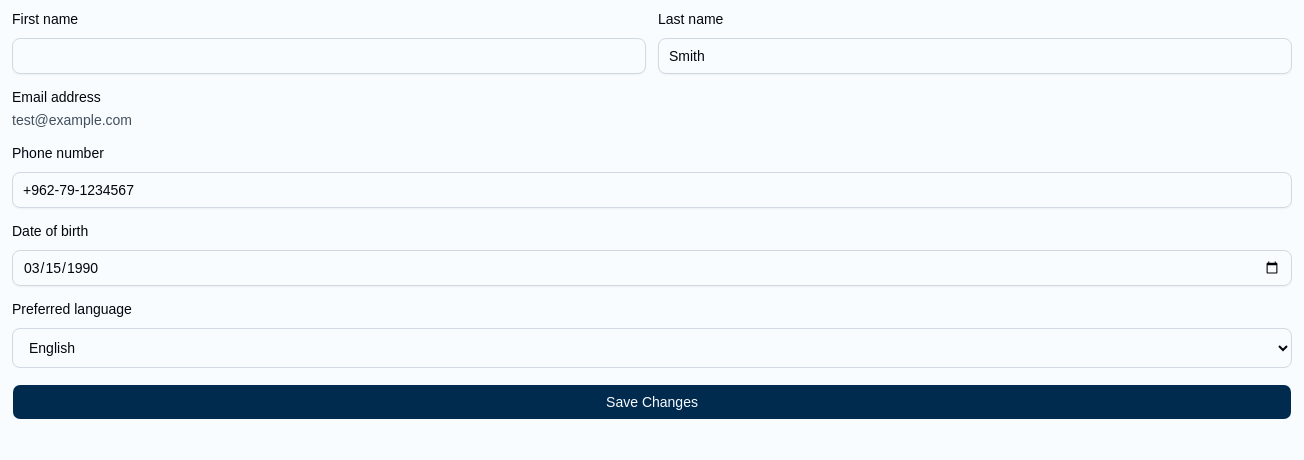
Test: ProfileForm field rendering and validation › shows first name required error on empty submit (PF-003)
Step 1. Click the button "Save Changes" → {"x": 652, "y": 402}, box [12, 384, 1292, 420]
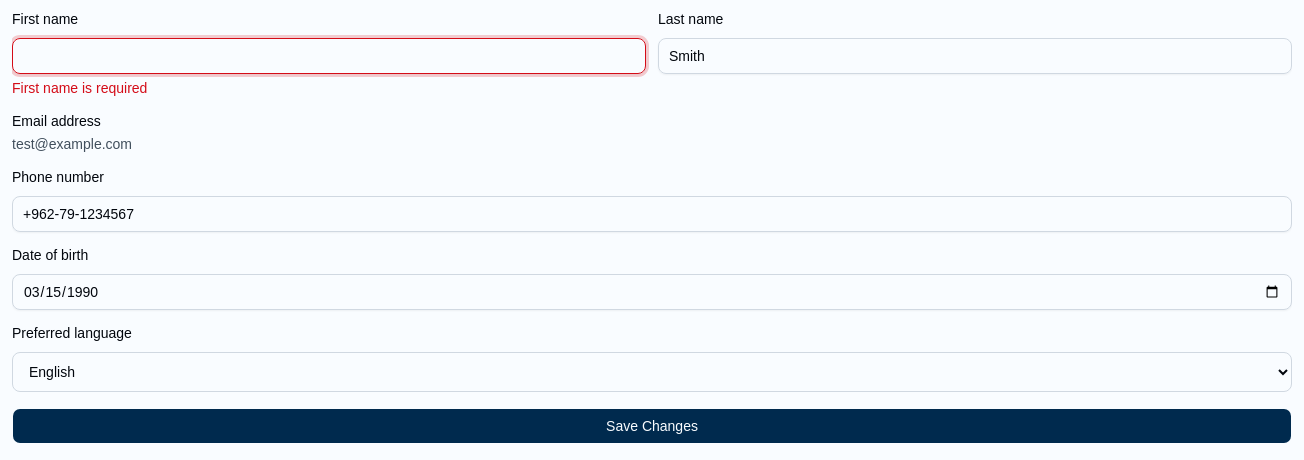
Now the text "First name is required" is shown, box [12, 80, 147, 96]
